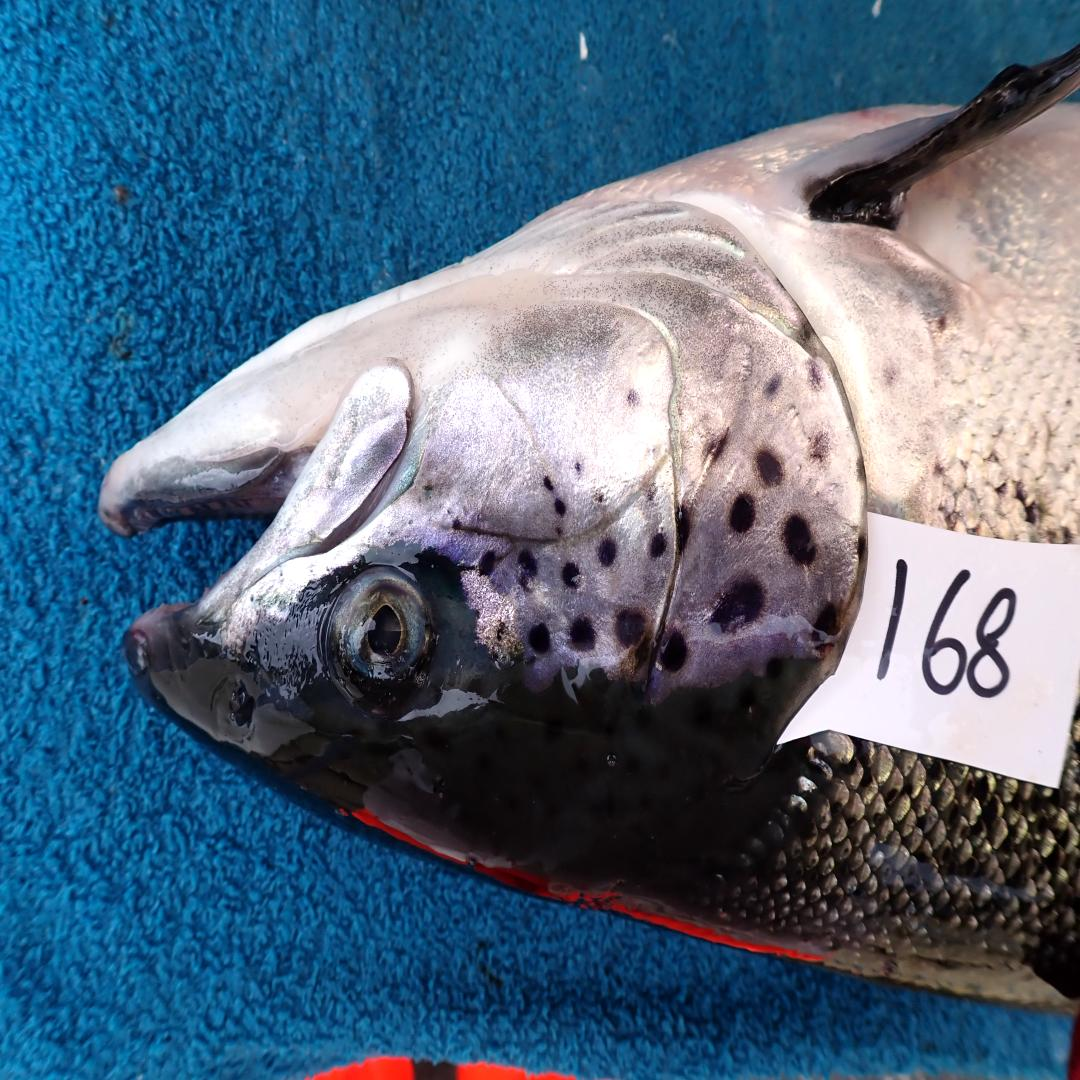roi: (419, 177, 866, 701)
